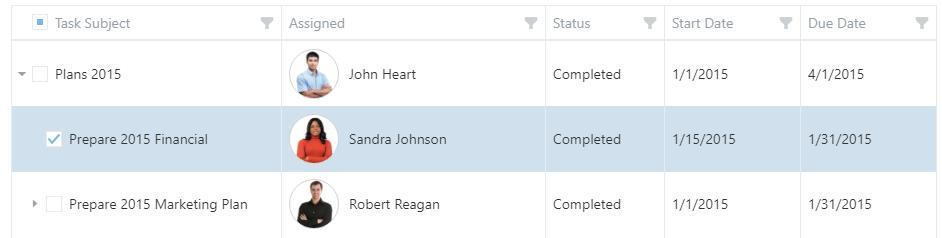checkbox: (45, 132, 64, 149), (33, 67, 50, 84), (47, 196, 63, 212)
table: (12, 6, 937, 237)
